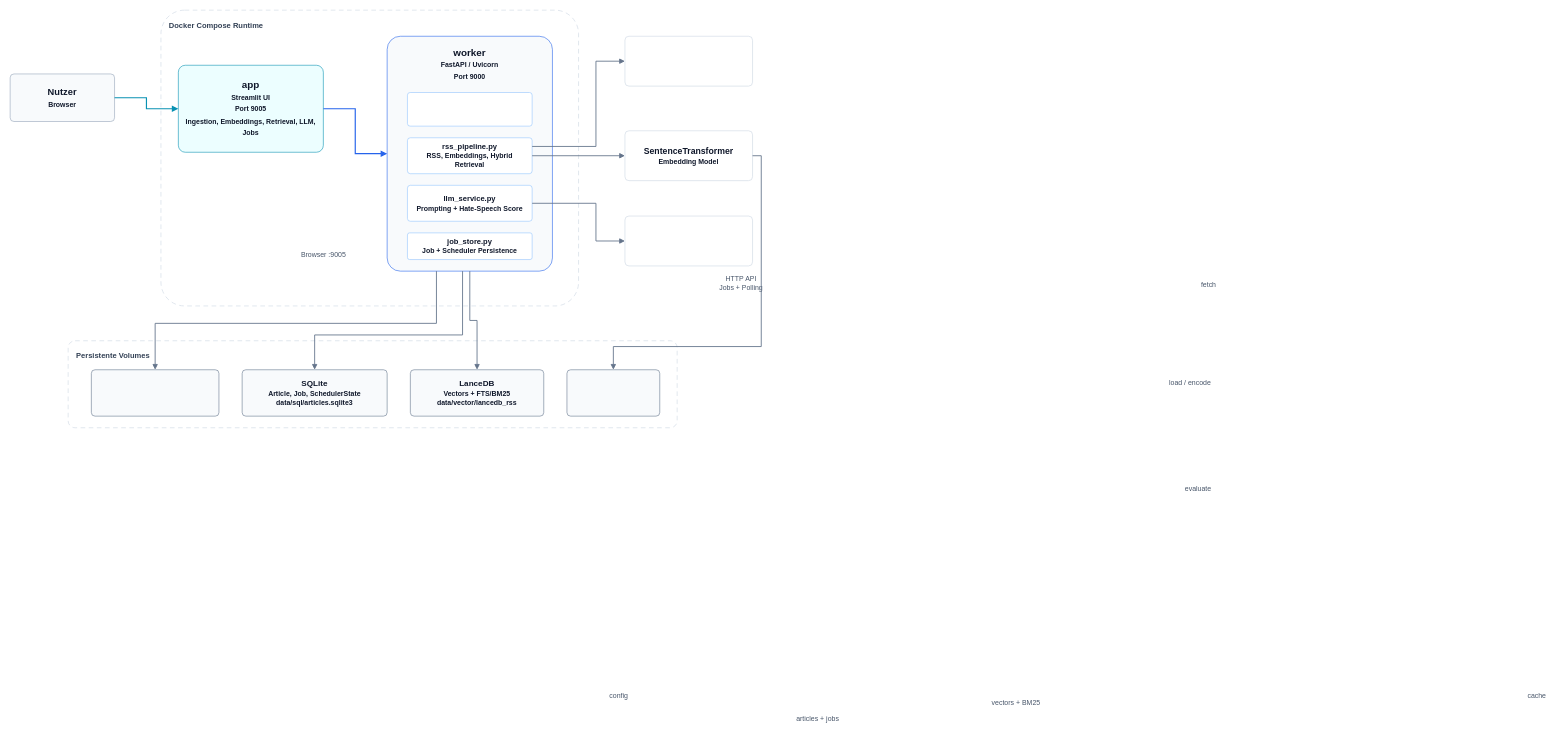
Image size: 1556x733. Some labels were removed from this diagram. Here are the shapes that lost their labels. From the top down, the centre of each, then its label:
At (x=688, y=61): "RSS / Artikelquellen Feeds + HTML".
At (x=469, y=109): "WorkerRuntime Job Queue + Scheduler".
At (x=688, y=240): "Gemini API google-genai SDK".
At (x=155, y=392): "App_config RSS_URL.txt RAG_Pipeline_Config.json".
At (x=613, y=392): "modell_cache HF + ST cache".
